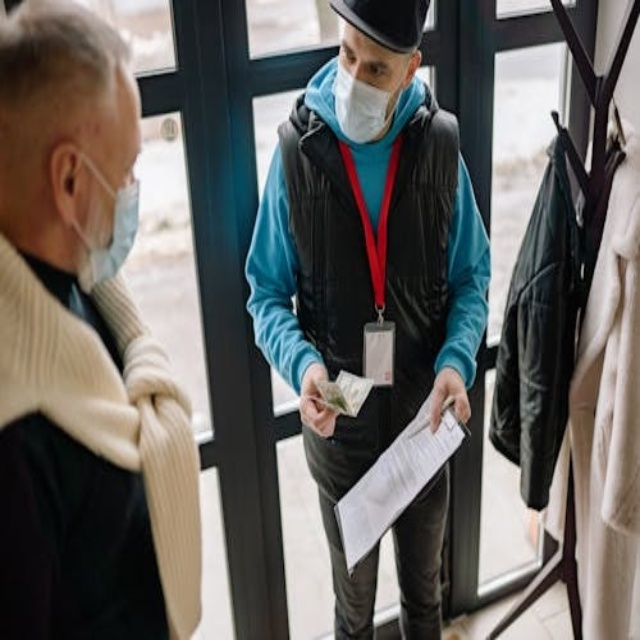Mascara: (75, 153, 141, 290), (333, 56, 402, 143)
Sin_gafas: (339, 21, 396, 83), (99, 135, 142, 183)
Sin_guantes: (297, 370, 342, 439), (430, 367, 472, 433)
